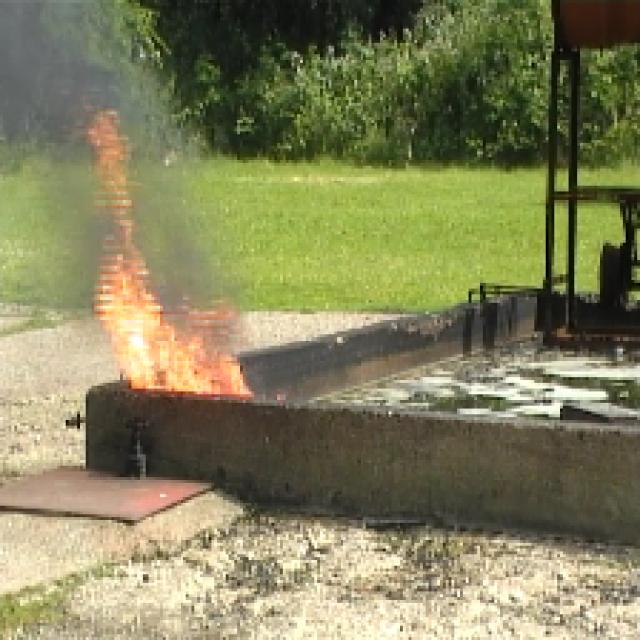fire: (89, 284, 243, 399)
